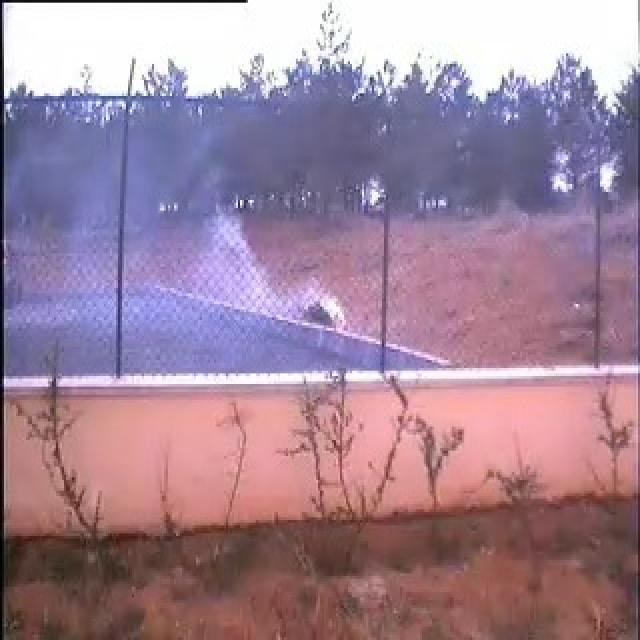smoke: (22, 119, 266, 373)
